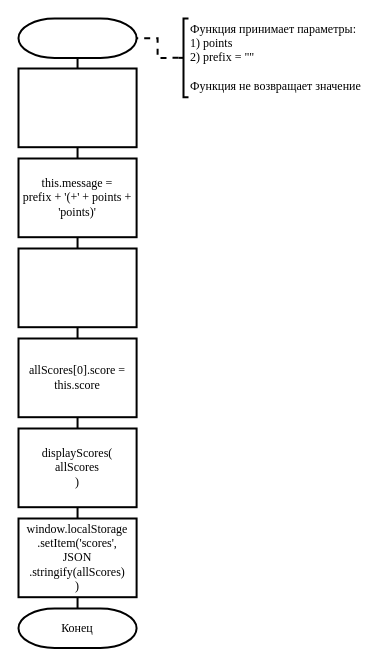
This 378x666 diagram has some shape labels left out. Here are the shapes that lost their labels. From the top down, the centre of each, then its label:
[77,37]: GameState ::increaseScore(...)
[77,107]: this.score += points
[77,287]: sortScores( allScores, 'id' )
